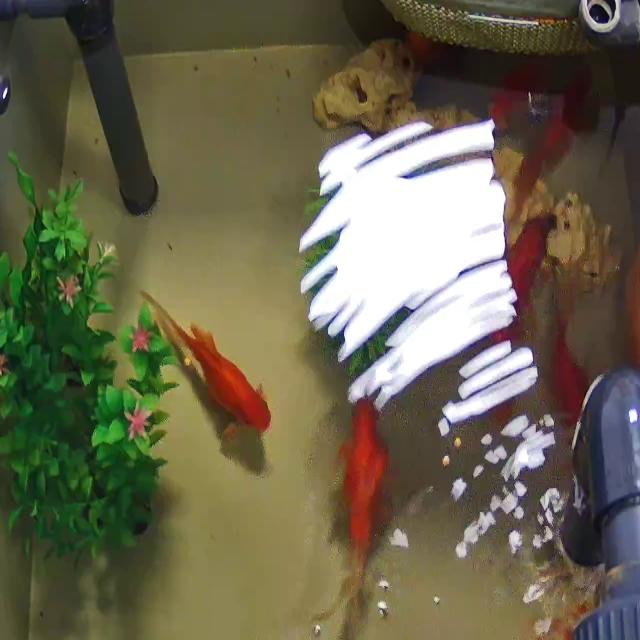fish: (136, 276, 273, 449), (332, 394, 398, 640), (518, 60, 587, 211), (545, 282, 590, 437), (494, 215, 538, 365), (489, 45, 548, 136), (631, 236, 640, 366)
